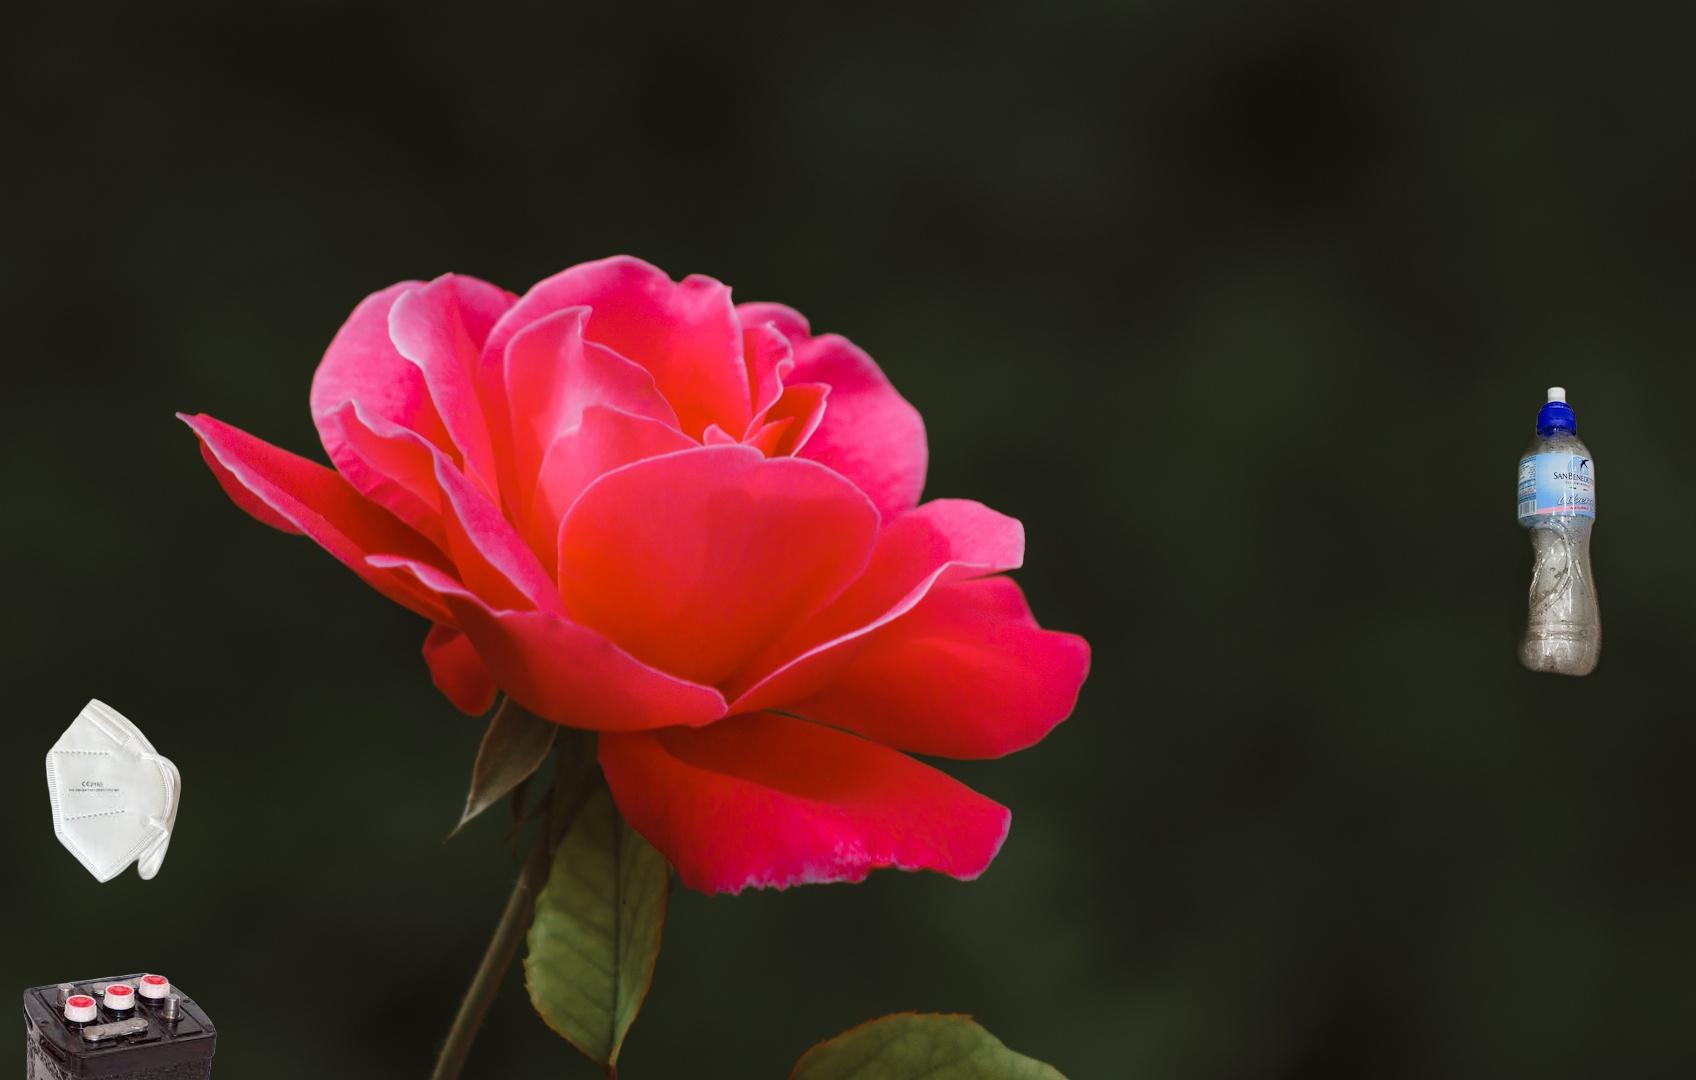battery: (20, 971, 220, 1080)
plastic-bottles: (1373, 382, 1669, 703)
trash: (43, 694, 184, 886)
